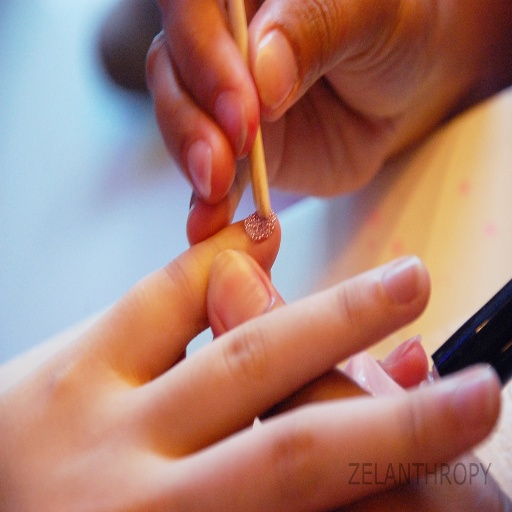hand: (0, 199, 503, 511), (144, 0, 511, 245), (202, 245, 511, 511)
